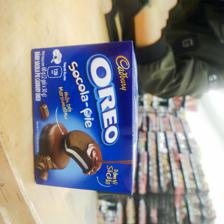Oreo: (34, 40, 139, 196)
